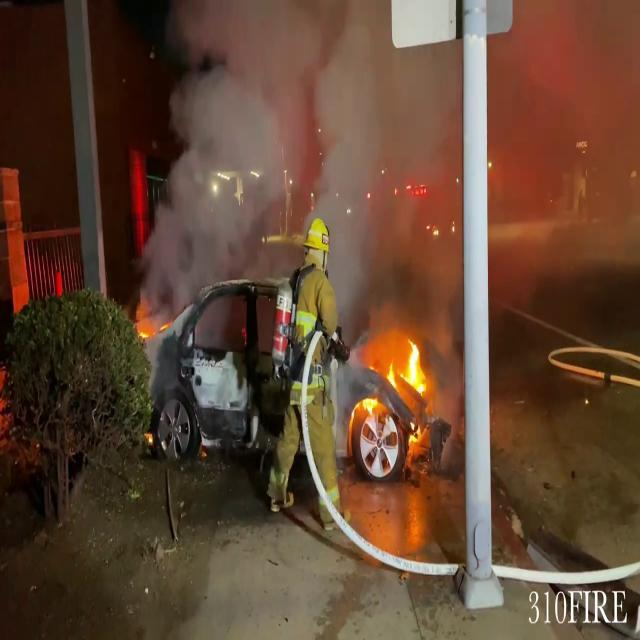Fire: (351, 333, 433, 439), (384, 336, 432, 402)
Smoke: (139, 0, 463, 316)
